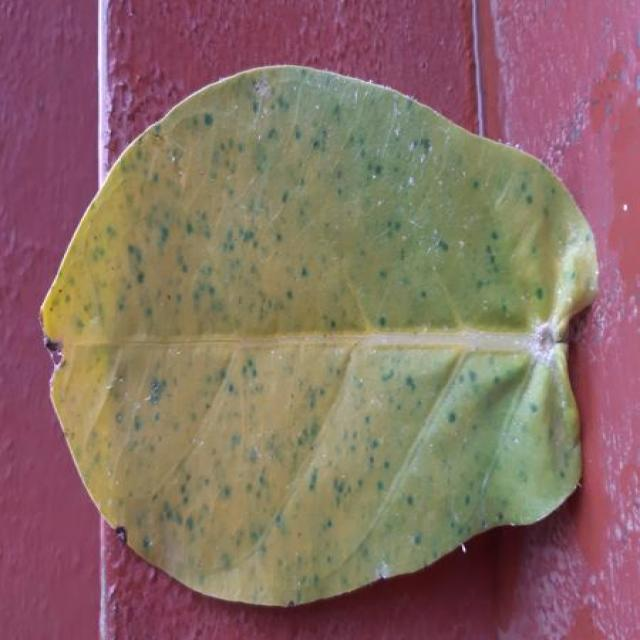Anthracnose: (128, 122, 468, 342)
ekka: (42, 66, 597, 606)
